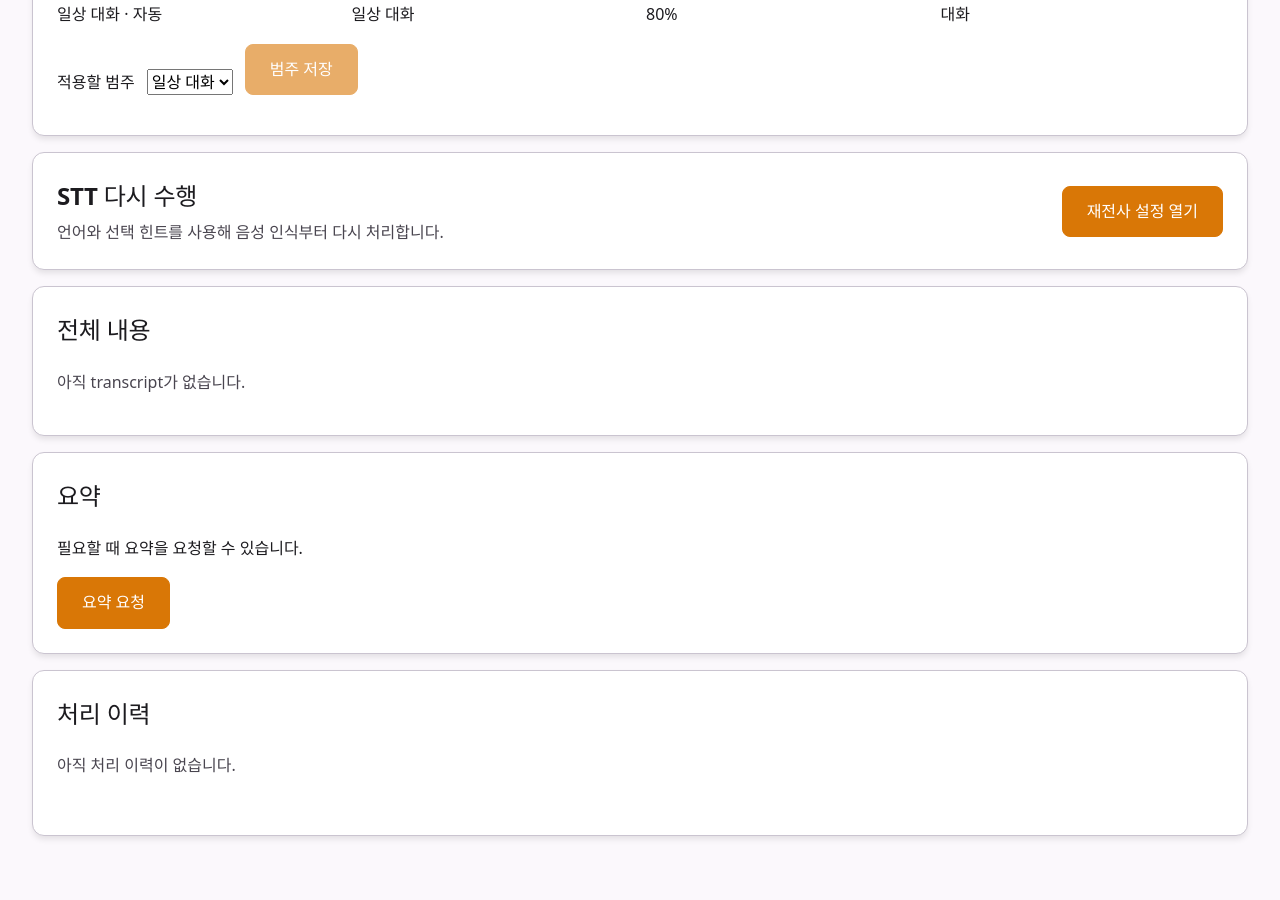
Scenario: 요약 revision 충돌은 최신 상세를 다시 불러오도록 안내한다
(page scrolled)
Step 1. Click the button "요약 요청" → (114, 603), box [57,577,170,629]
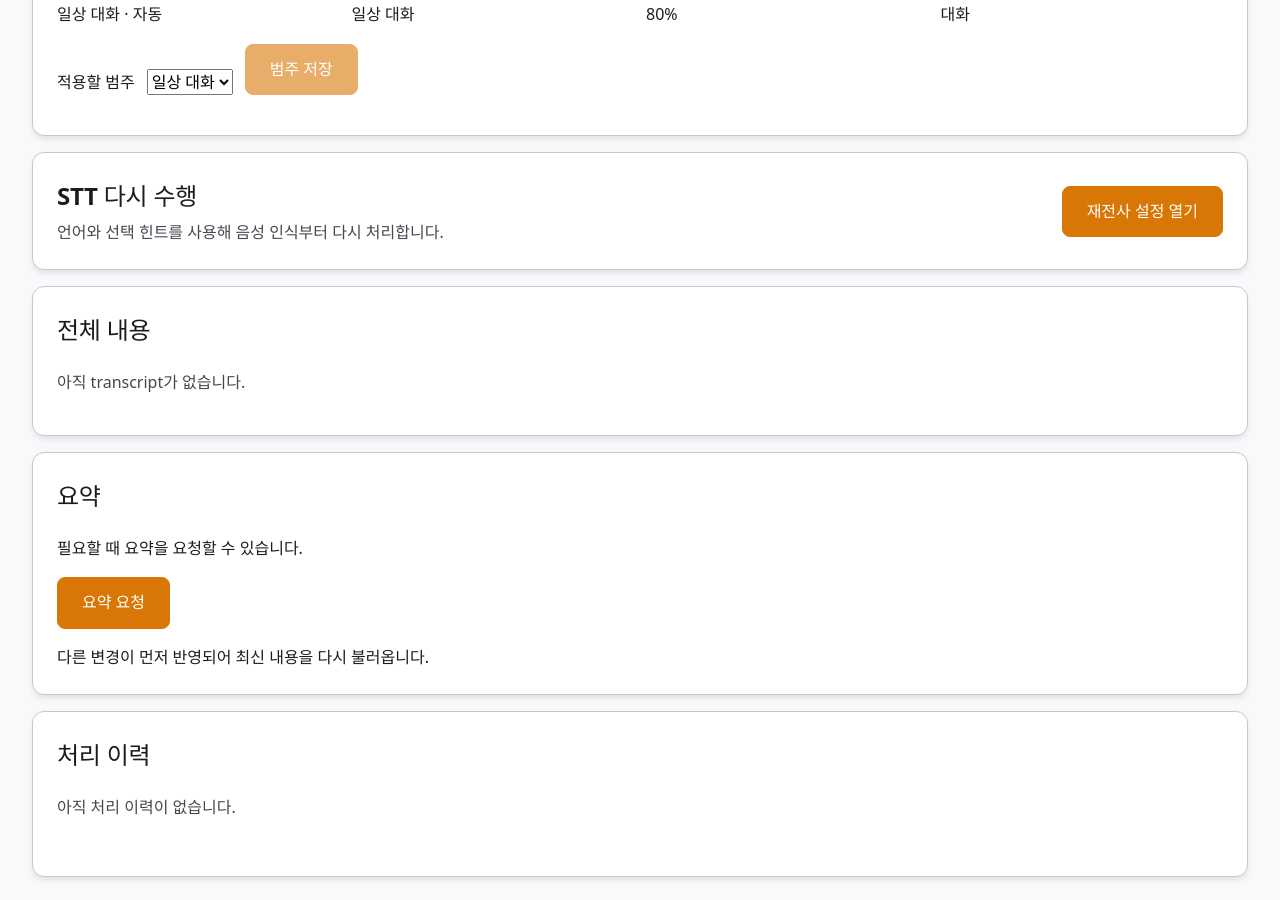
Result: the text "다른 변경이 먼저 반영되어 최신 내용을 다시 불러옵니다." is shown at [57,646,429,668]
